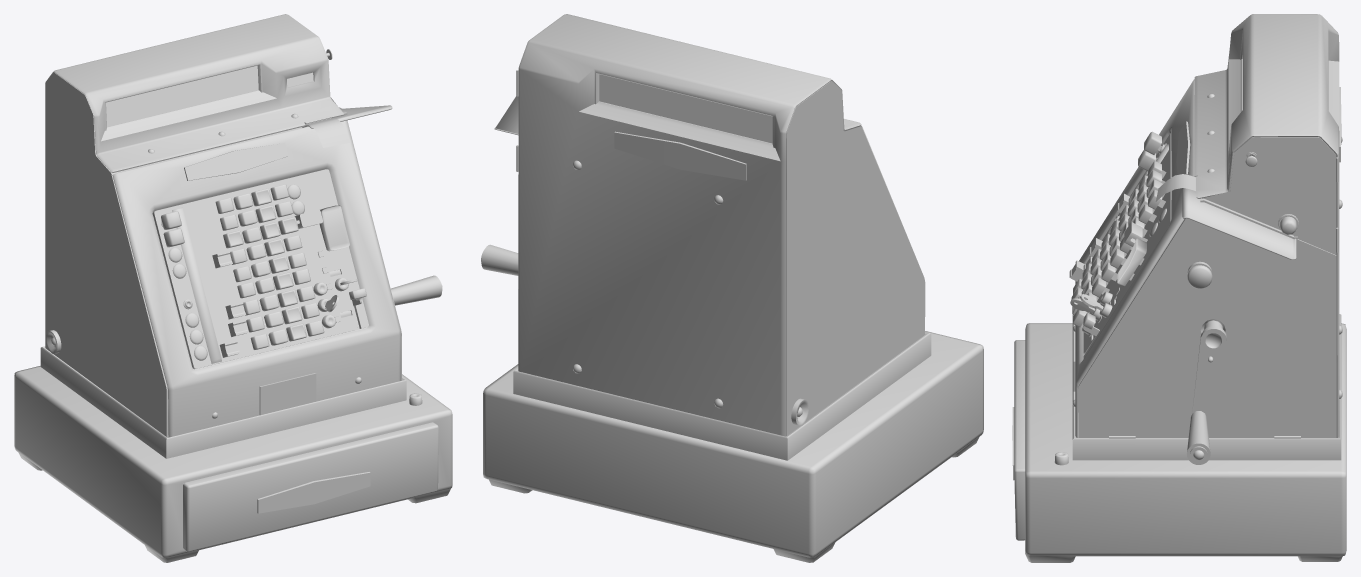
Rendered from Cash Register.glb.
3 views of the same model, side by side, from view 1: azimuth 30°, elevation 25°; view 2: azimuth 150°, elevation 25°; view 3: azimuth 270°, elevation 25° (orthographic). The views are drawn at different scales.
Parts seen in each view (by area): view 1: CashRegister_011_drawer; view 2: CashRegister_011_drawer; view 3: CashRegister_011_drawer.
Part boxes in pixels (x1=…): CashRegister_011_drawer: x1=14, y1=14, x2=452, y2=562; CashRegister_011_drawer: x1=481, y1=14, x2=983, y2=562; CashRegister_011_drawer: x1=1012, y1=14, x2=1346, y2=562.
Size of the model in its own units: 0.6005 by 0.6214 by 0.4534.
2 materials, 1 textured.
